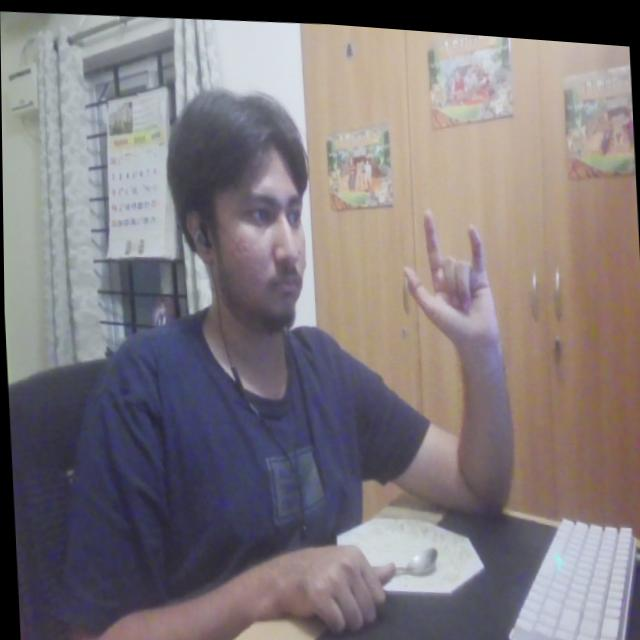iloveyou: (402, 196, 511, 361)
